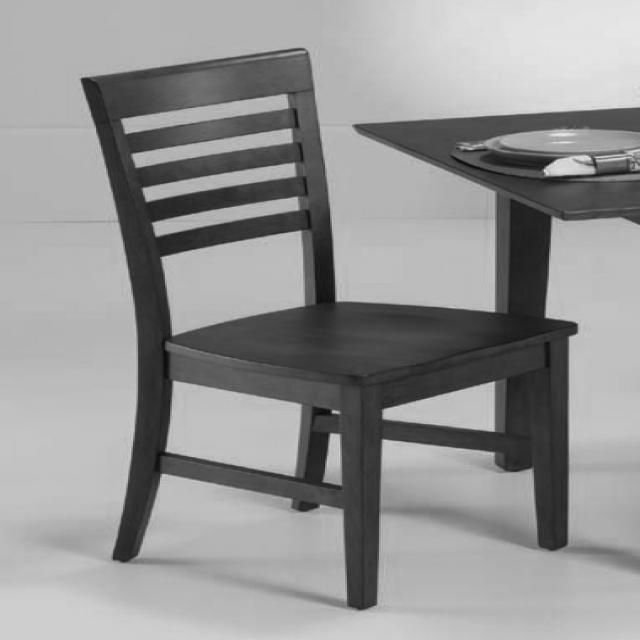chair: (80, 47, 584, 608)
